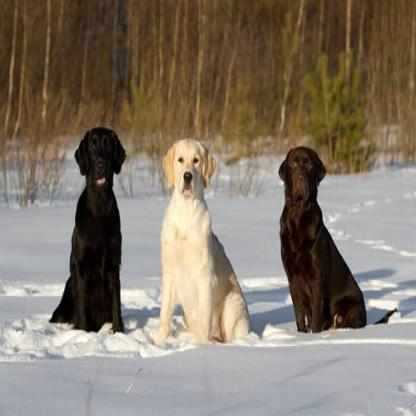Labarador Retriever: (155, 139, 250, 339), (277, 150, 369, 330), (57, 128, 126, 338)
